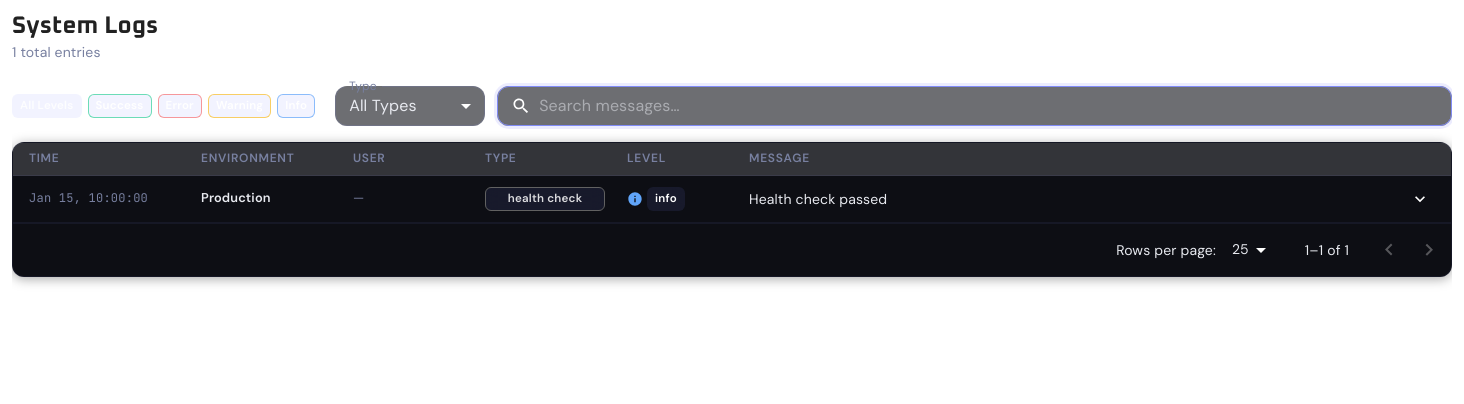
Scenario: Logs page › expands details panel when expand button clicked
expect the text "Health check passed" is shown: met, box top-left (749, 190), bottom-right (887, 208)
Click the 7th button.
click(1420, 198)  # box top-left (1405, 184), bottom-right (1435, 214)
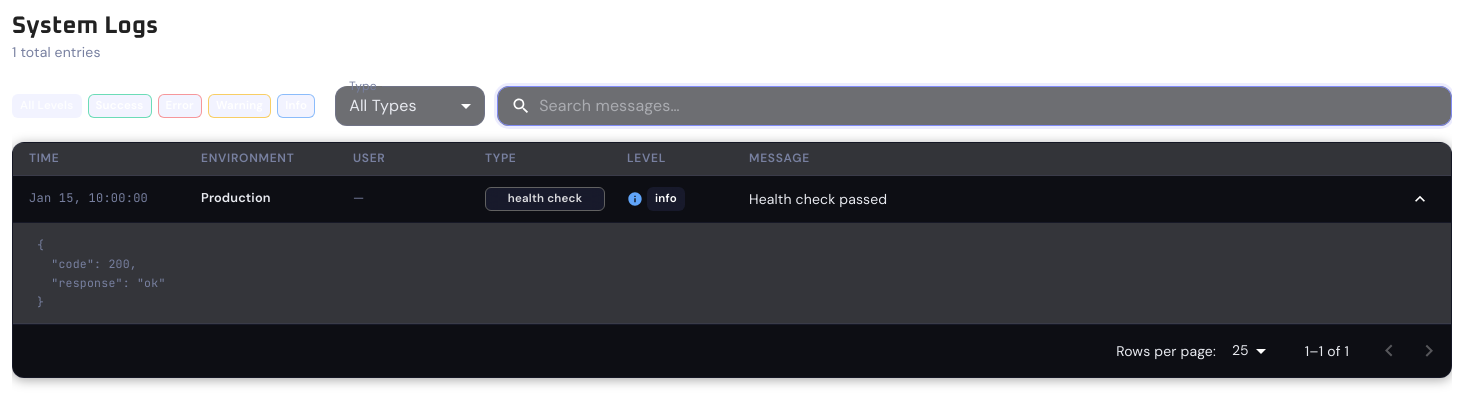
expect the icon with test id "KeyboardArrowUpIcon" is shown: met, box top-left (1410, 188), bottom-right (1430, 208)
